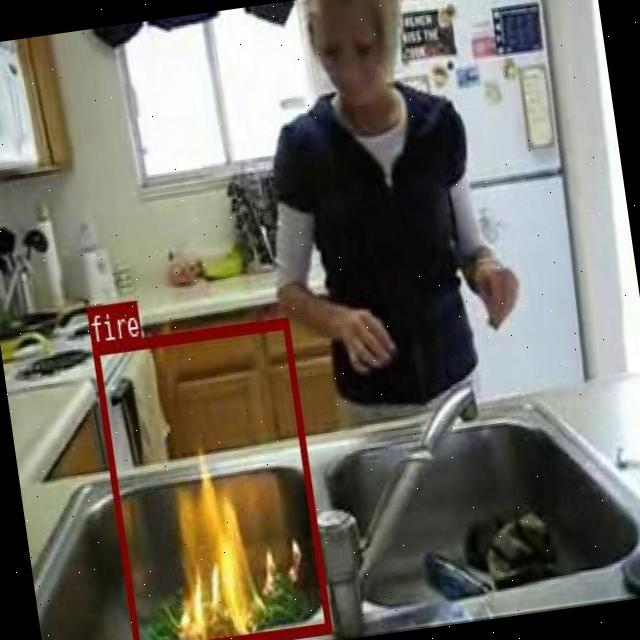fire: (92, 315, 331, 640)
